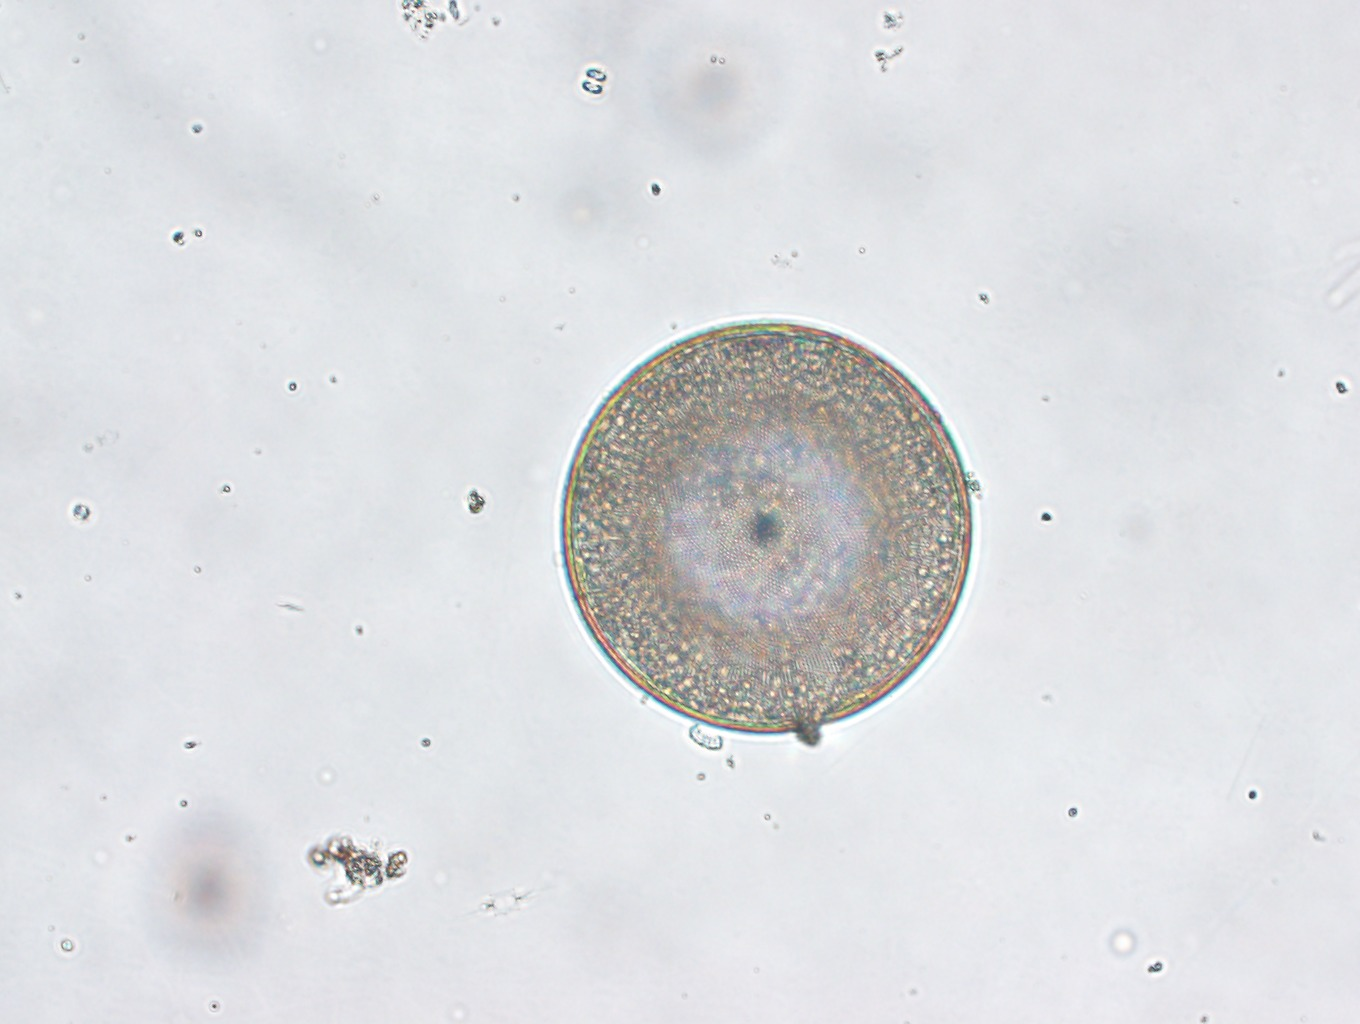coscinodiscus: (556, 315, 980, 740)
